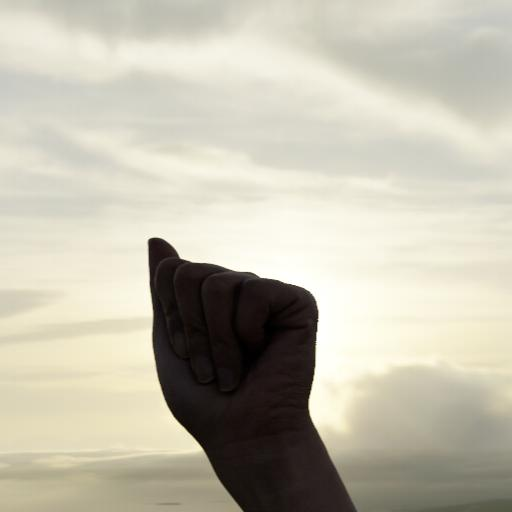A: (126, 222, 345, 453)
